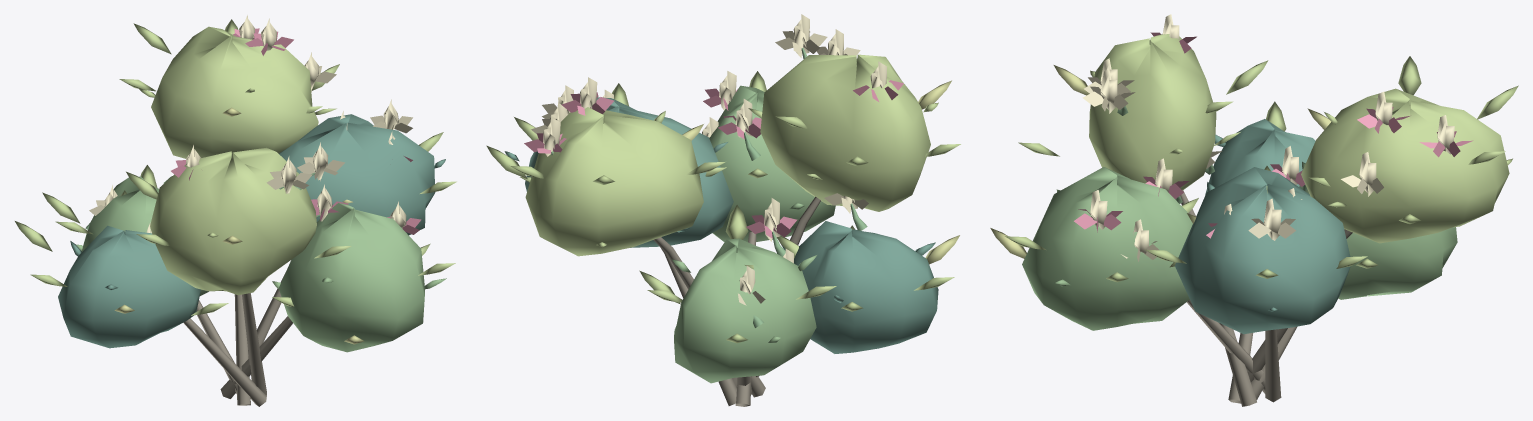
Rendered from bush_berry.glb.
The picture shows the model from 3 angles, left to right: view 1: azimuth 30°, elevation 25°; view 2: azimuth 150°, elevation 25°; view 3: azimuth 270°, elevation 25°; orthographic projection. The views are drawn at different scales.
Visible parts, largest first — view 1: bush_berry; view 2: bush_berry; view 3: bush_berry.
Part boxes in pixels (left/top/right/bottom): bush_berry: left=15, top=15, right=456, bottom=406; bush_berry: left=486, top=14, right=960, bottom=406; bush_berry: left=990, top=14, right=1518, bottom=406.
Bounding box in the file's own units: 2.37 × 1.75 × 2.36.
